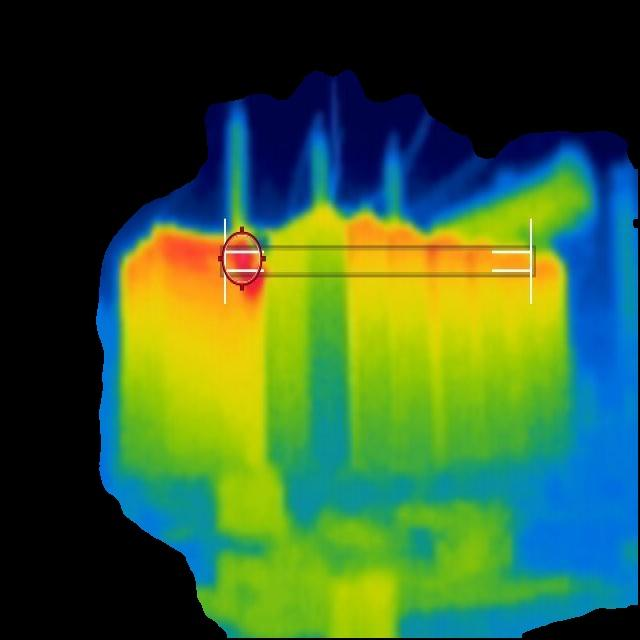Transformer Overload: (122, 213, 571, 480)
